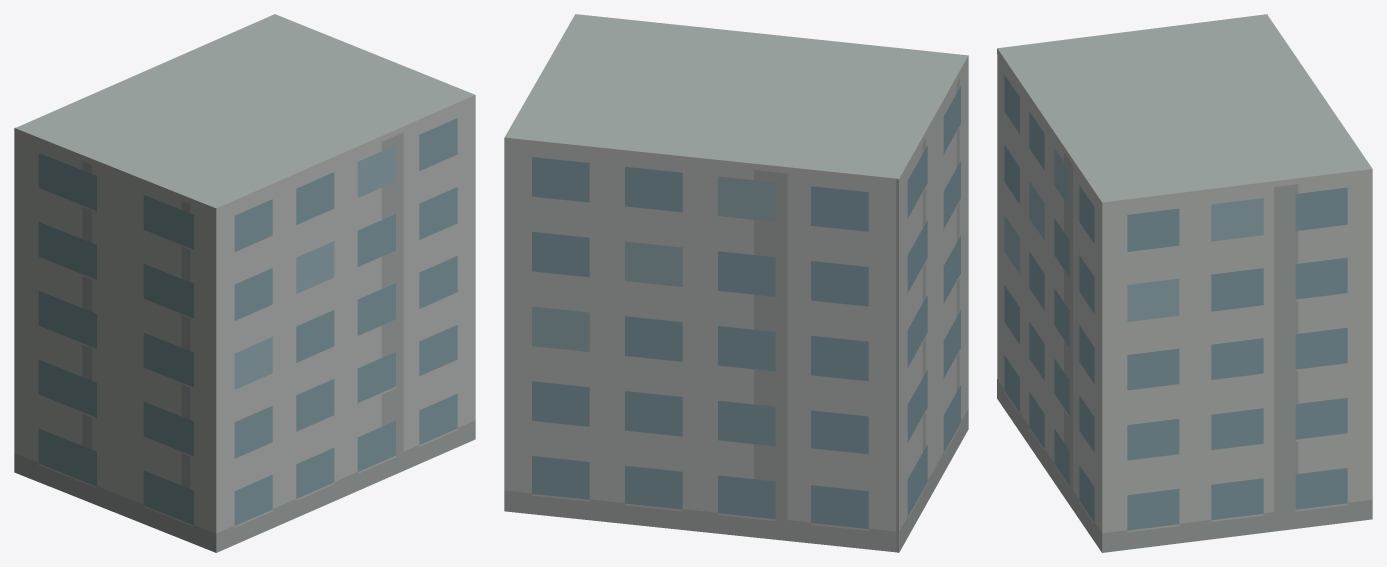
File: survey-upis-32625142.glb
3 views of the same model, side by side, from view 1: azimuth 30°, elevation 25°; view 2: azimuth 150°, elevation 25°; view 3: azimuth 270°, elevation 25° (orthographic). The views are drawn at different scales.
Parts seen in each view (by area): view 1: survey-upis-32625142.tmp; view 2: survey-upis-32625142.tmp; view 3: survey-upis-32625142.tmp.
Part boxes in pixels (box(x1,y1,x2,y2)): survey-upis-32625142.tmp: box(14, 14, 475, 552); survey-upis-32625142.tmp: box(504, 14, 968, 552); survey-upis-32625142.tmp: box(997, 14, 1372, 552).
Size of the model in its own units: 16.51 by 14.3 by 13.9.
